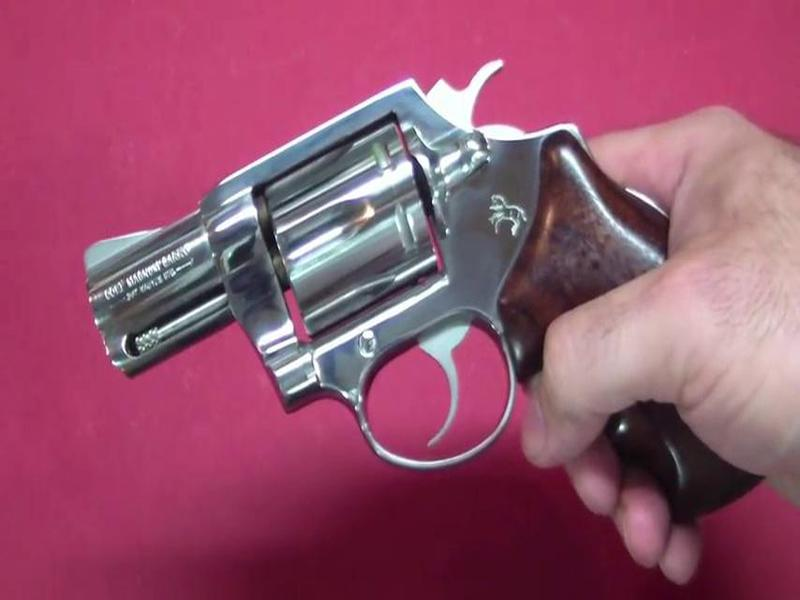Revolver: (58, 54, 792, 534)
